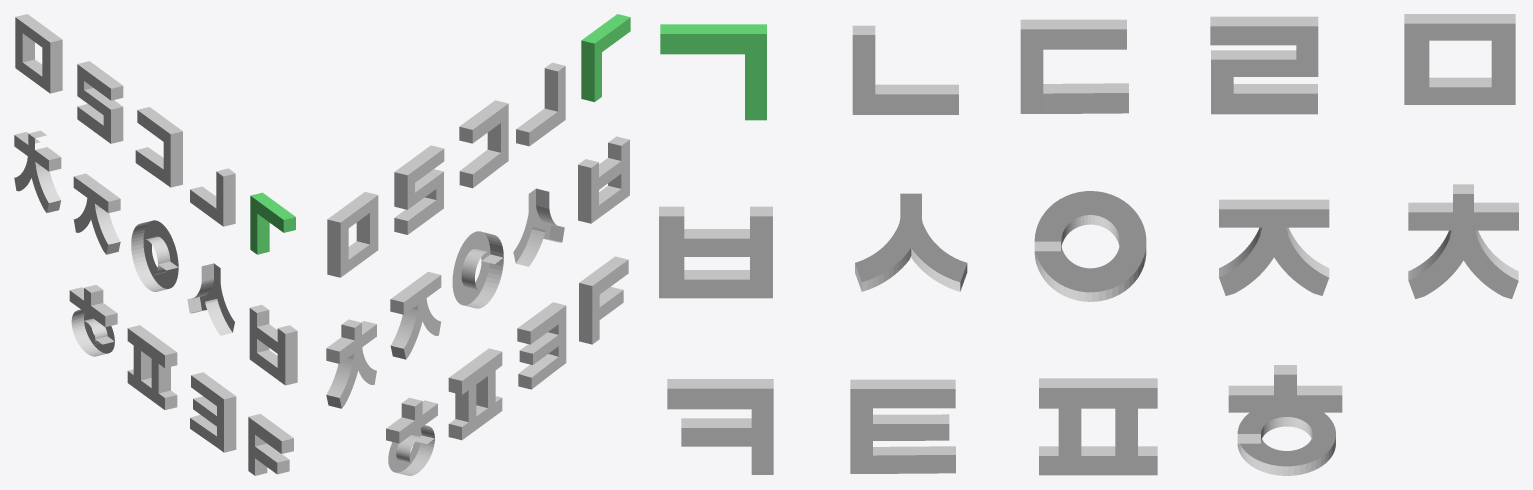
File: hangeul2.glb
3 views of the same model, side by side, from view 1: azimuth 30°, elevation 25°; view 2: azimuth 150°, elevation 25°; view 3: azimuth 270°, elevation 25° (orthographic). The views are drawn at different scales.
Parts seen in each view (by area): view 1: ri, pi, bi, mi, ti, ei, hi, di, ci, zi, ki, gi (+2 smaller); view 2: pi, ri, mi, ti, bi, ei, hi, di, ci, ki, zi, gi (+2 smaller); view 3: ri, ti, pi, bi, hi, ei, mi, ci, di, zi, ki, gi (+2 smaller).
Boxes of the visible parts, box(x1,y1,x2,y2) form: ri: box(77, 61, 123, 143); pi: box(127, 325, 177, 409); bi: box(249, 305, 297, 385); mi: box(15, 14, 62, 93); ti: box(190, 372, 236, 452); ei: box(131, 220, 178, 291); hi: box(69, 285, 117, 356); di: box(135, 107, 182, 187); ci: box(14, 130, 61, 212); zi: box(73, 173, 120, 254); ki: box(248, 414, 293, 475); gi: box(250, 192, 295, 254); pi: box(448, 348, 502, 440); ri: box(394, 145, 444, 234); mi: box(327, 192, 378, 277); ti: box(517, 302, 566, 389); bi: box(578, 136, 629, 223); ei: box(452, 231, 503, 308); hi: box(386, 397, 437, 475); di: box(459, 100, 508, 188); ci: box(326, 319, 376, 408); ki: box(579, 256, 628, 344); zi: box(390, 272, 441, 359); gi: box(581, 14, 630, 101); ri: box(1210, 16, 1318, 114); ti: box(850, 379, 955, 473); pi: box(1039, 378, 1157, 475); bi: box(659, 206, 772, 298); hi: box(1228, 365, 1342, 475); ei: box(1034, 191, 1146, 301); mi: box(1404, 14, 1515, 104); ci: box(1408, 184, 1518, 298); di: box(1020, 19, 1128, 113); zi: box(1219, 199, 1329, 295); ki: box(667, 379, 773, 474); gi: box(660, 24, 766, 120).
Size of the model in its own units: 2.36 by 44 by 75.78.
